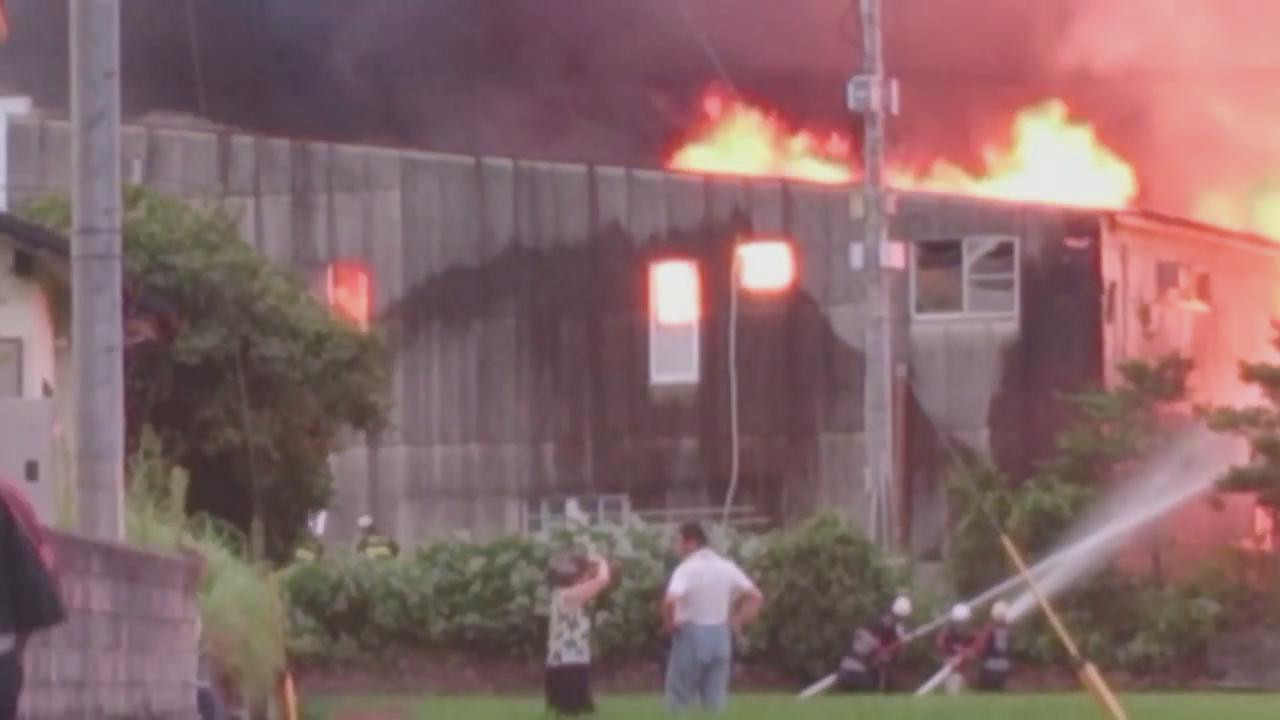Fire: (893, 86, 1142, 214), (659, 86, 857, 181), (331, 268, 379, 333)
